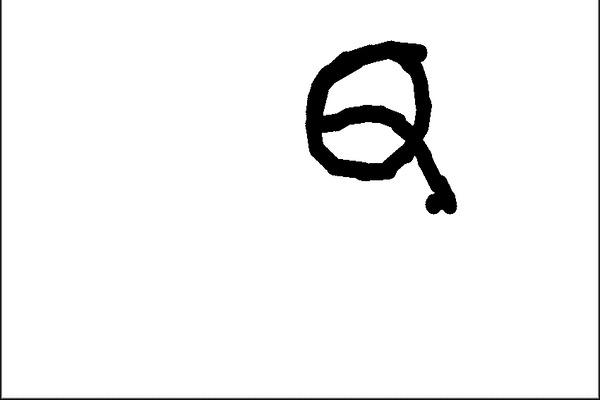Q: (301, 32, 453, 205)
